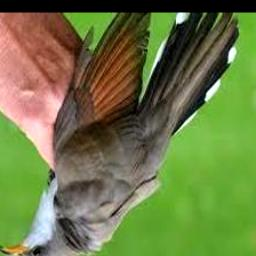Cuckoo: (0, 12, 240, 256)
